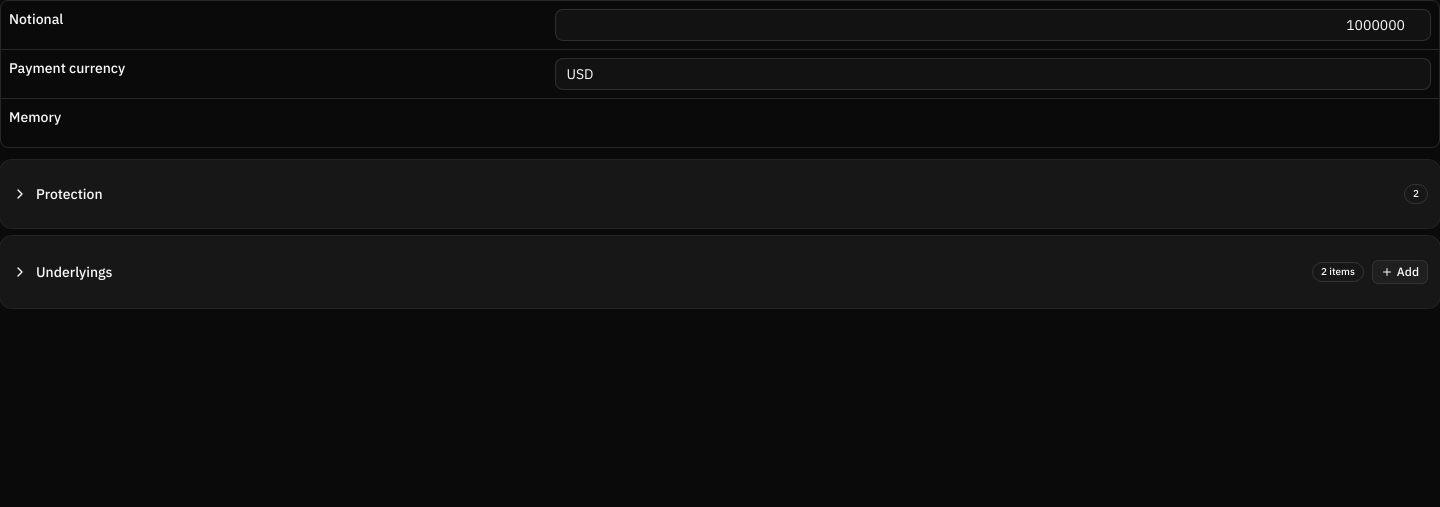
Scenario: DeepForm auto mode › exposes expand/collapse controls
This screenshot has width=1440, height=507.
Click the button "Underlyings 2 items" at (74, 272), box [12,262,1364,282]
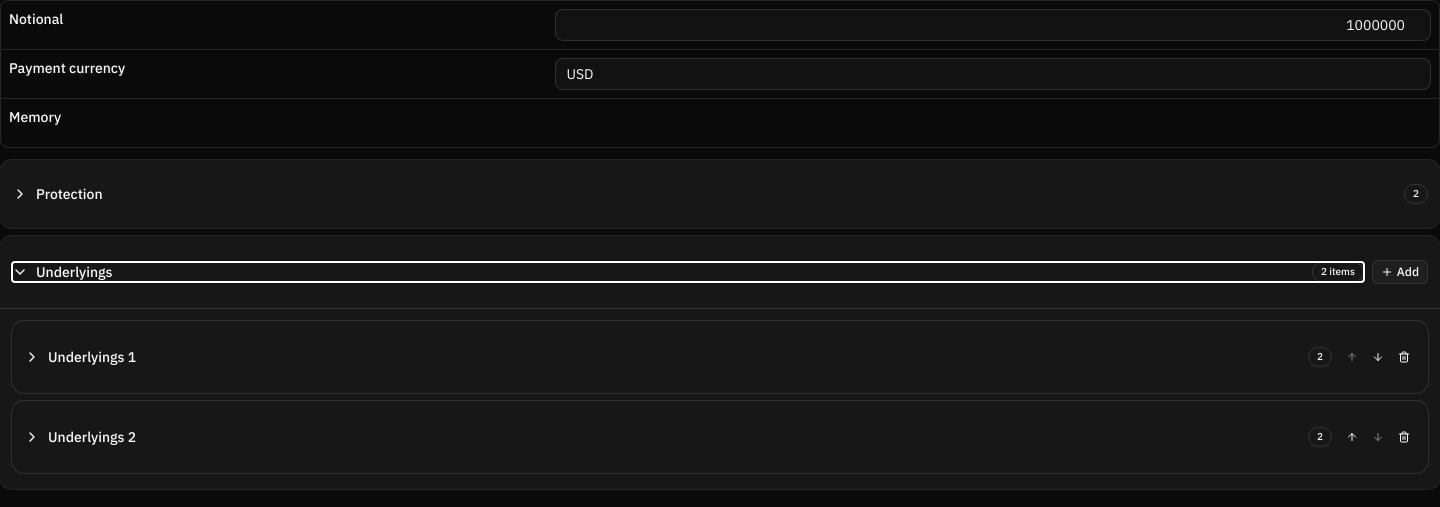
Now the text "Underlyings 1" is shown, box [48,348,136,366]
